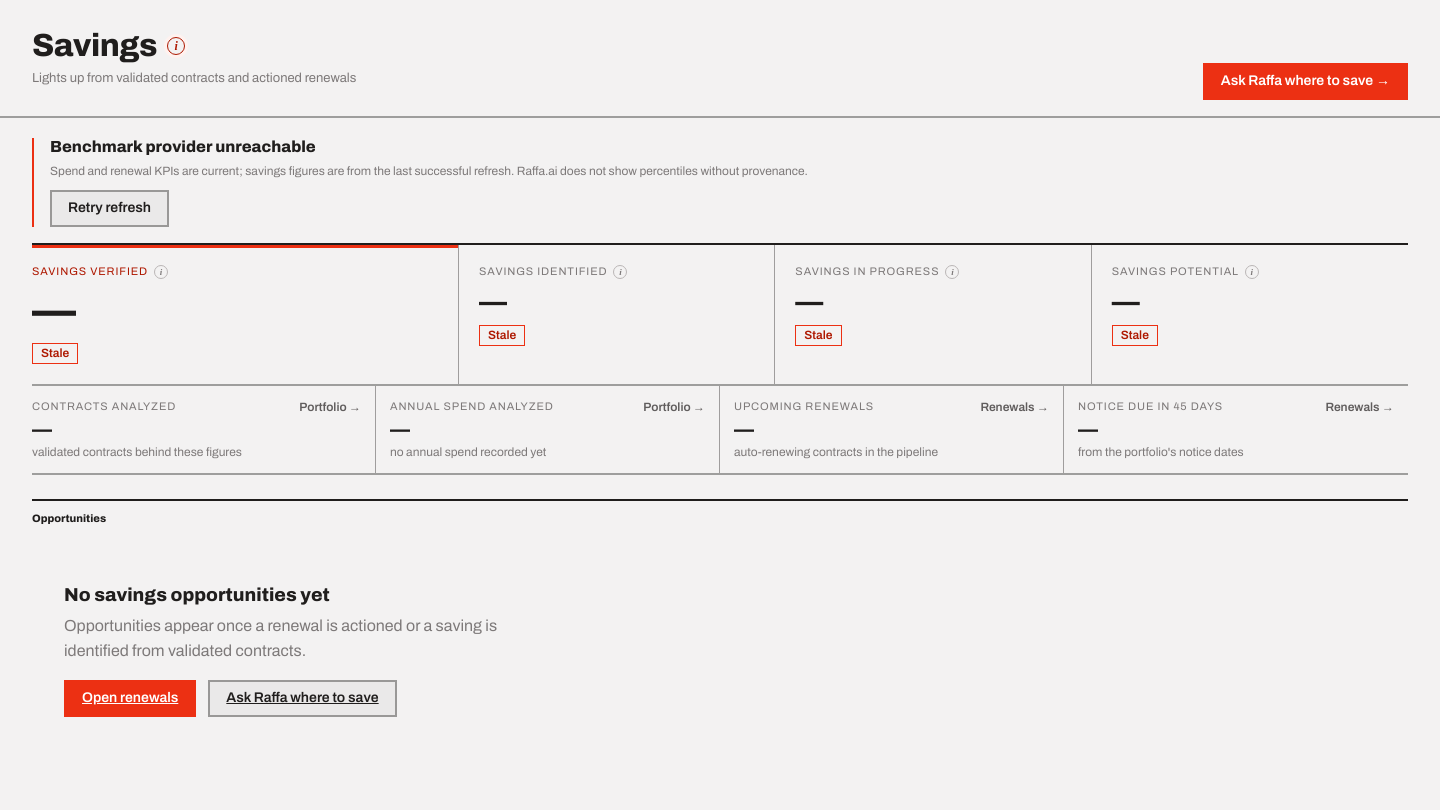
Test: SavingsRoute (V2, ADR-024 / screens-v2.md #8) › benchmark-provider-unreachable -> KPIs stale-labelled, and Retry recovers
This screenshot has width=1440, height=810.
Expected: the heading "Benchmark provider unreachable" is shown, x1=50 y1=138 x2=316 y2=155
Expected: the message that starts with "Benchmark provider unreachable" is shown, x1=32 y1=138 x2=1408 y2=227
Click the button "Retry refresh": (110, 209) x1=50 y1=190 x2=169 y2=227
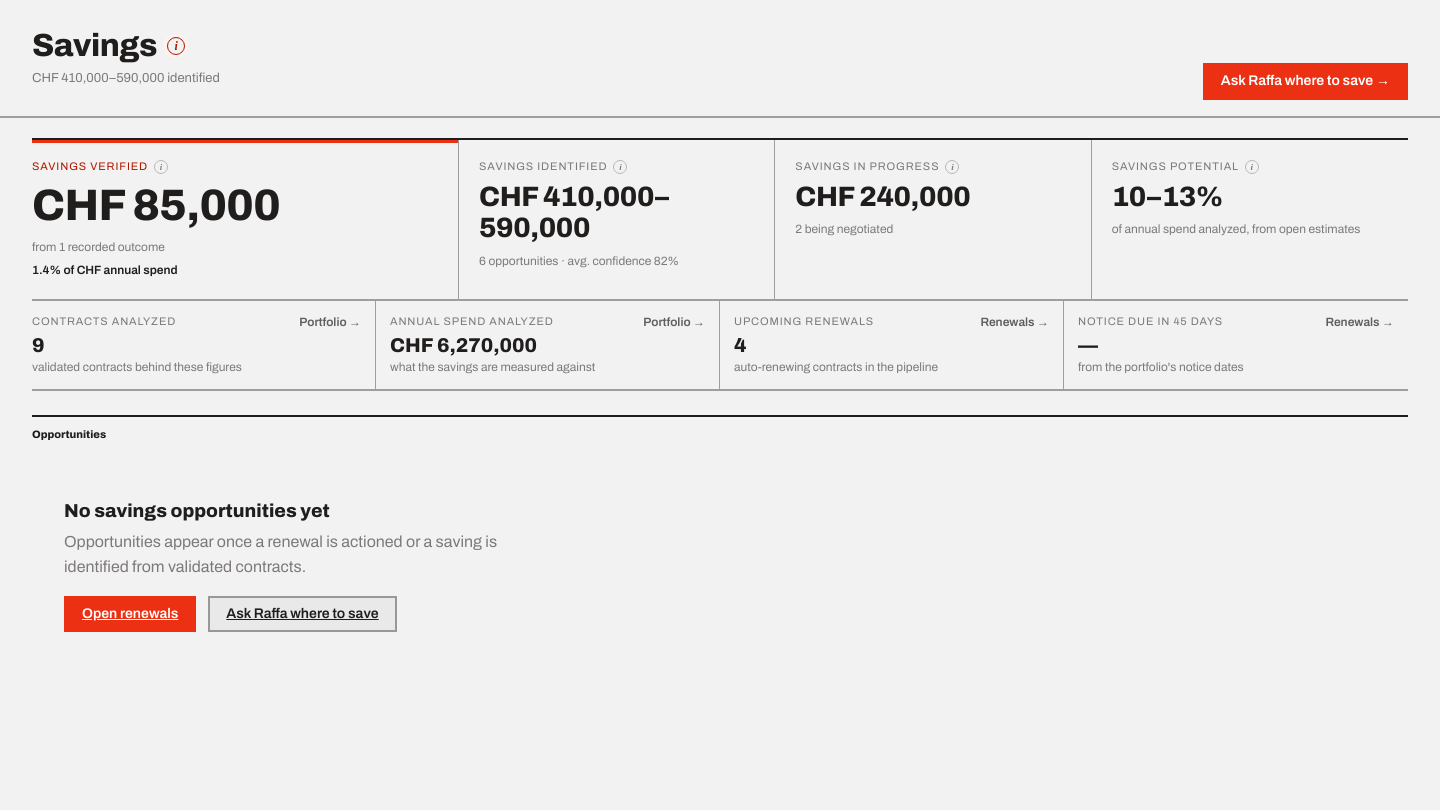
Now the text "CHF 410,000–590,000" is shown, box x1=479 y1=181 x2=669 y2=243
Now the heading "Benchmark provider unreachable" is gone
Now the text "Stale" is gone
